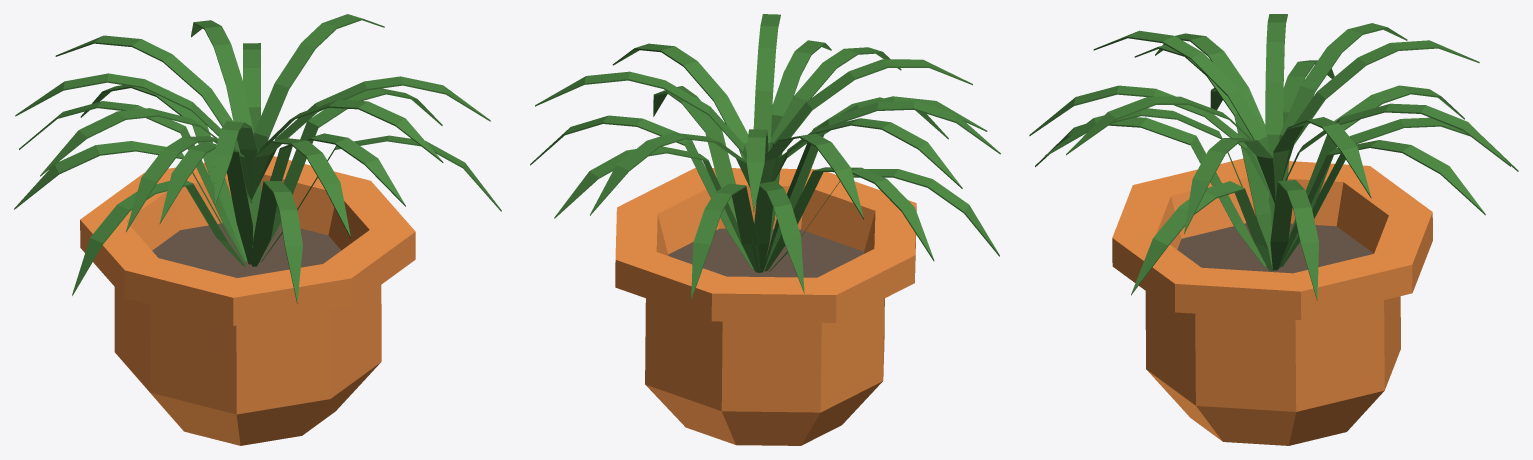
The model's file is Flower_32.fbx.
The picture shows the model from 3 angles, left to right: view 1: azimuth 30°, elevation 25°; view 2: azimuth 150°, elevation 25°; view 3: azimuth 270°, elevation 25°; orthographic projection. The views are drawn at different scales.
Parts seen in each view (by area): view 1: Flower_32; view 2: Flower_32; view 3: Flower_32.
Part boxes in pixels (x1=…): Flower_32: x1=14, y1=14, x2=501, y2=445; Flower_32: x1=530, y1=14, x2=1000, y2=445; Flower_32: x1=1029, y1=14, x2=1518, y2=445.
Size of the model in its own units: 57.08 by 56.43 by 43.34.
